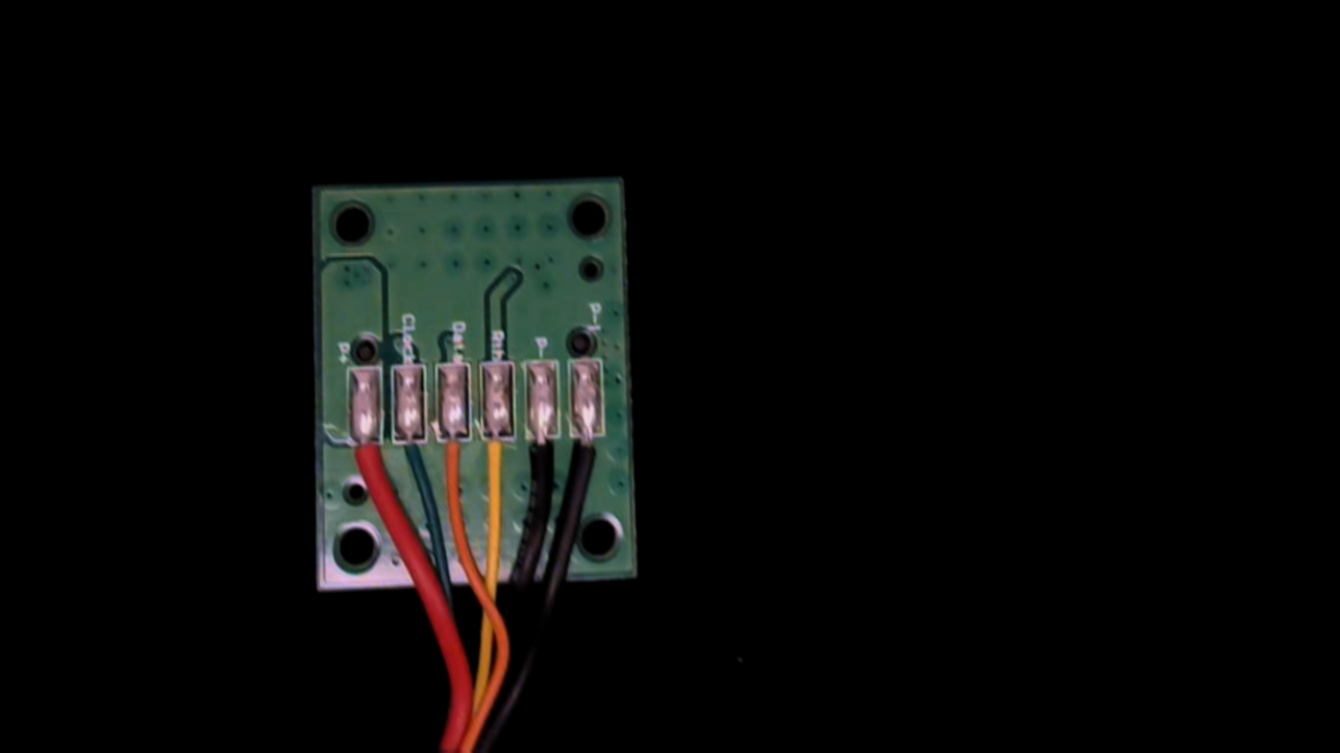Black: (520, 416, 560, 507)
Black1: (567, 418, 606, 501)
Green: (391, 418, 428, 488)
Orange: (435, 419, 471, 497)
Red: (348, 415, 387, 502)
Yellow: (475, 419, 514, 511)
